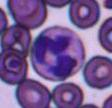N: (31, 26, 85, 81)
